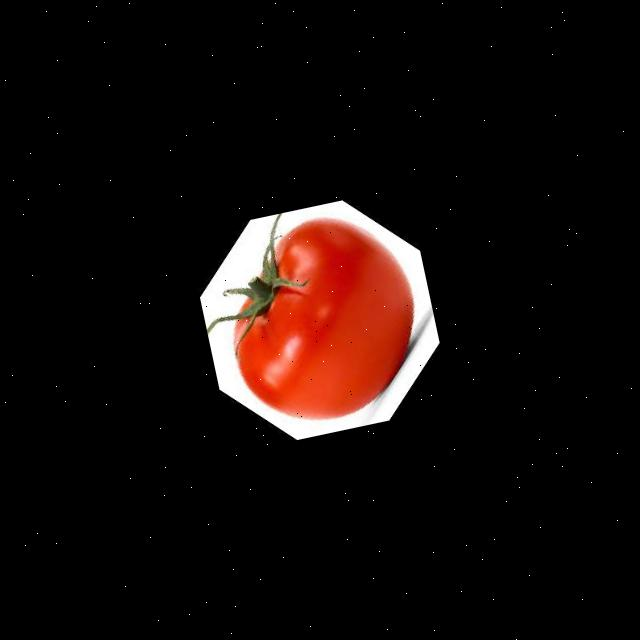tomato: (228, 198, 434, 426)
